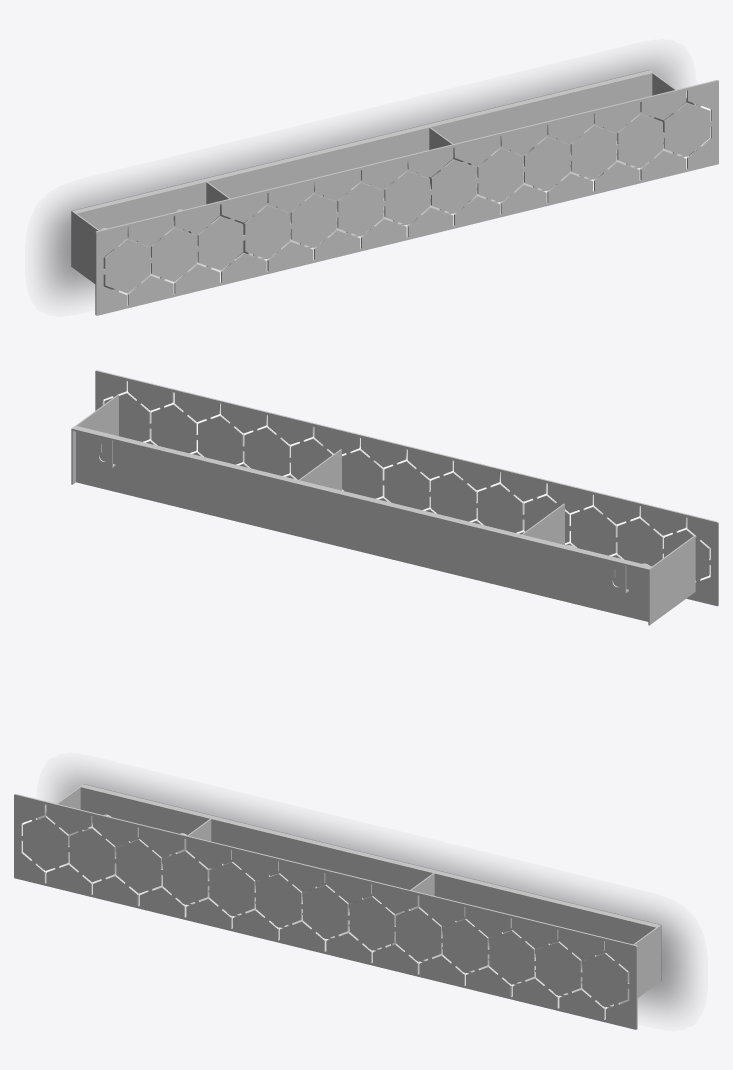
File: bee-patron.4000ce60e7.ar.glb
3 renders of one model, top to bottom at view 1: azimuth 30°, elevation 25°; view 2: azimuth 150°, elevation 25°; view 3: azimuth 330°, elevation 25°, orthographic.
Visible parts, largest first — view 1: NAUO1, object 2; view 2: NAUO1; view 3: NAUO1, object 2.
Boxes of the visible parts, <box> form: NAUO1: <box>71,70,718,315</box>; object 2: <box>42,59,678,296</box>; NAUO1: <box>71,370,718,625</box>; NAUO1: <box>14,784,661,1029</box>; object 2: <box>54,773,690,1010</box>.
Size of the model in its own units: 0.78 by 0.17 by 0.092.
Materials: 2 (1 with a texture image).
